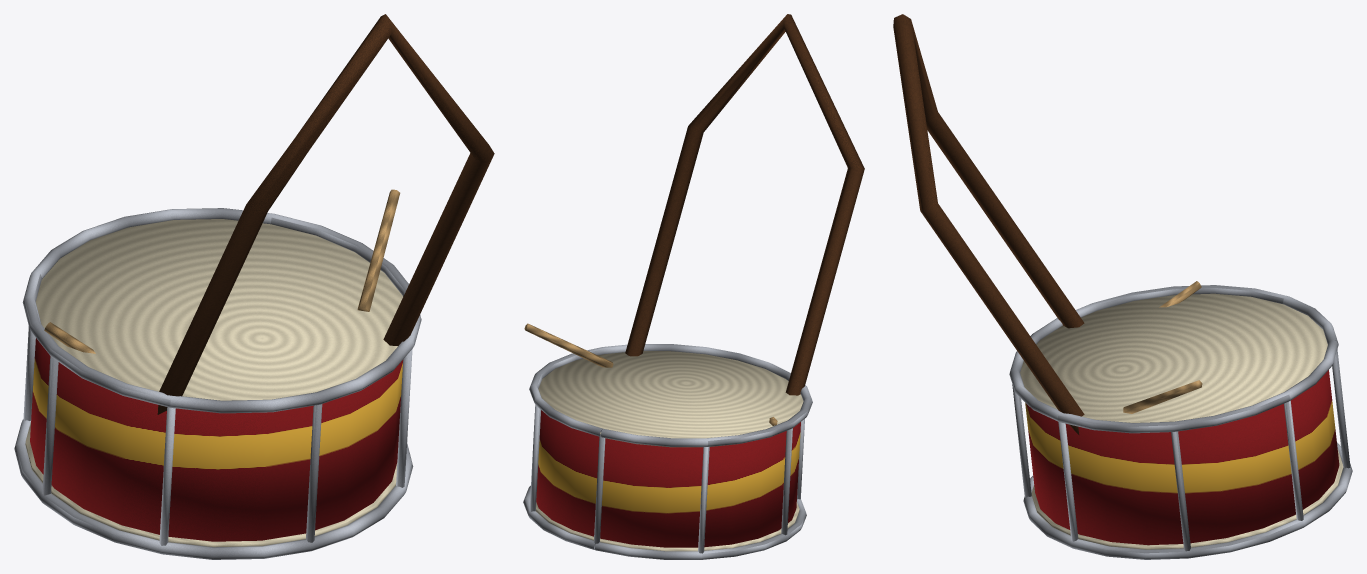
Rendered from banda_tarola.obj.
3 renders of one model, left to right at view 1: azimuth 30°, elevation 25°; view 2: azimuth 150°, elevation 25°; view 3: azimuth 270°, elevation 25°, orthographic. The views are drawn at different scales.
Visible parts, largest first — view 1: banda_tarola; view 2: banda_tarola; view 3: banda_tarola.
Part boxes in pixels (<box>): banda_tarola: <box>14,14,494,559</box>; banda_tarola: <box>523,14,864,559</box>; banda_tarola: <box>893,14,1352,559</box>.
Bounding box in the file's own units: 0.3874 × 0.6022 × 0.5107.
5 materials, 5 textured.
